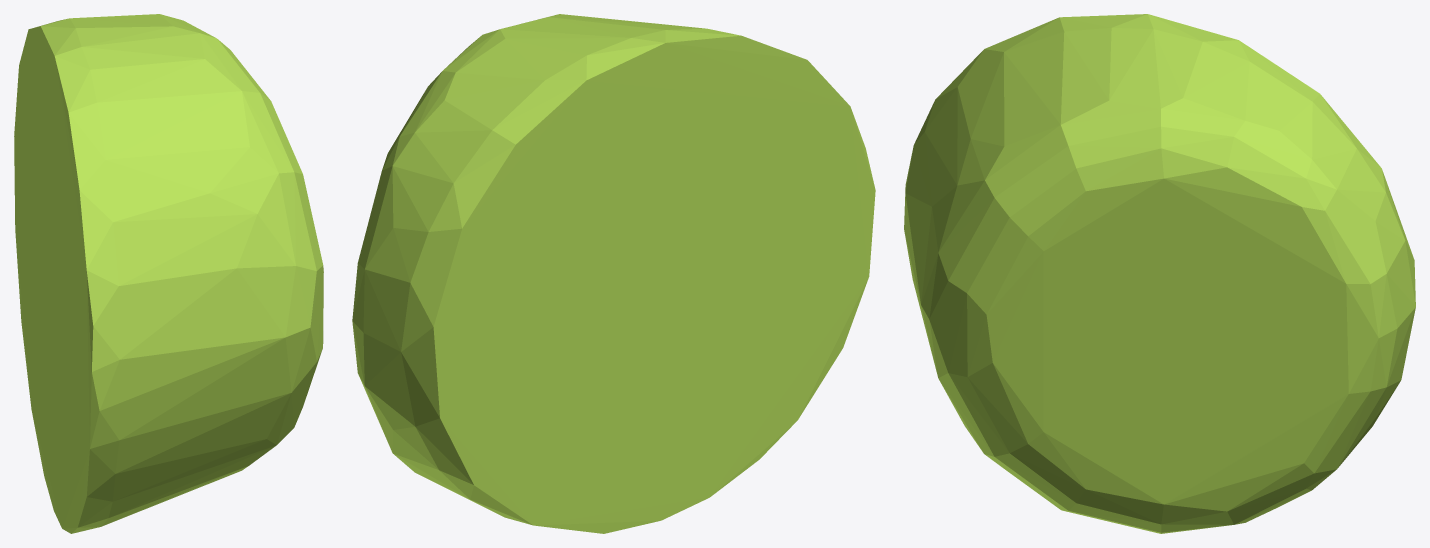
File: industrial_06397_link_5_respondable_respondable_respondable_respondable_respondable_respondable_coll_2.dae
3 views of the same model, side by side, from view 1: azimuth 30°, elevation 25°; view 2: azimuth 150°, elevation 25°; view 3: azimuth 270°, elevation 25° (orthographic). The views are drawn at different scales.
Visible parts, largest first — view 1: node; view 2: node; view 3: node.
Part boxes in pixels (left/top/right/bottom): node: left=14, top=14, right=323, bottom=533; node: left=352, top=14, right=875, bottom=533; node: left=904, top=14, right=1415, bottom=533.
Bounding box in the file's own units: 0.0496 × 0.0786 × 0.0787.
